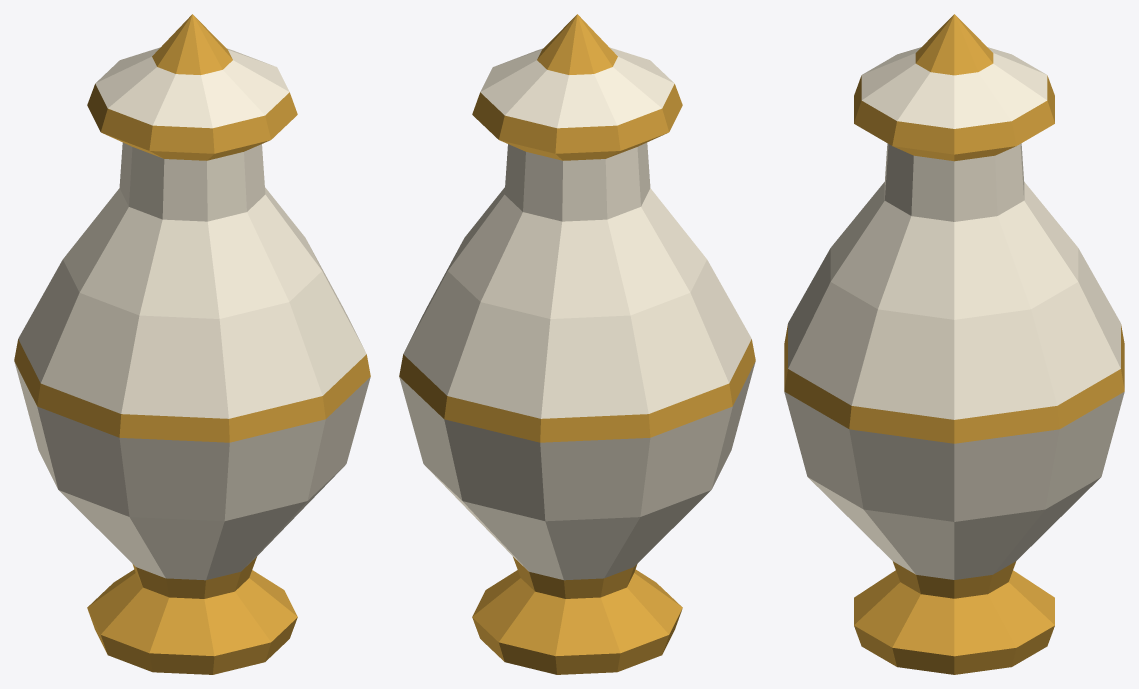
The model's file is urn.glb.
3 views of the same model, side by side, from view 1: azimuth 30°, elevation 25°; view 2: azimuth 150°, elevation 25°; view 3: azimuth 270°, elevation 25° (orthographic).
Visible parts, largest first — view 1: urn_vessel; view 2: urn_vessel; view 3: urn_vessel.
Part boxes in pixels (left/top/right/bottom): urn_vessel: left=14, top=14, right=370, bottom=674; urn_vessel: left=399, top=14, right=755, bottom=674; urn_vessel: left=784, top=14, right=1124, bottom=674.
Bounding box in the file's own units: 0.44 × 0.84 × 0.4185.
